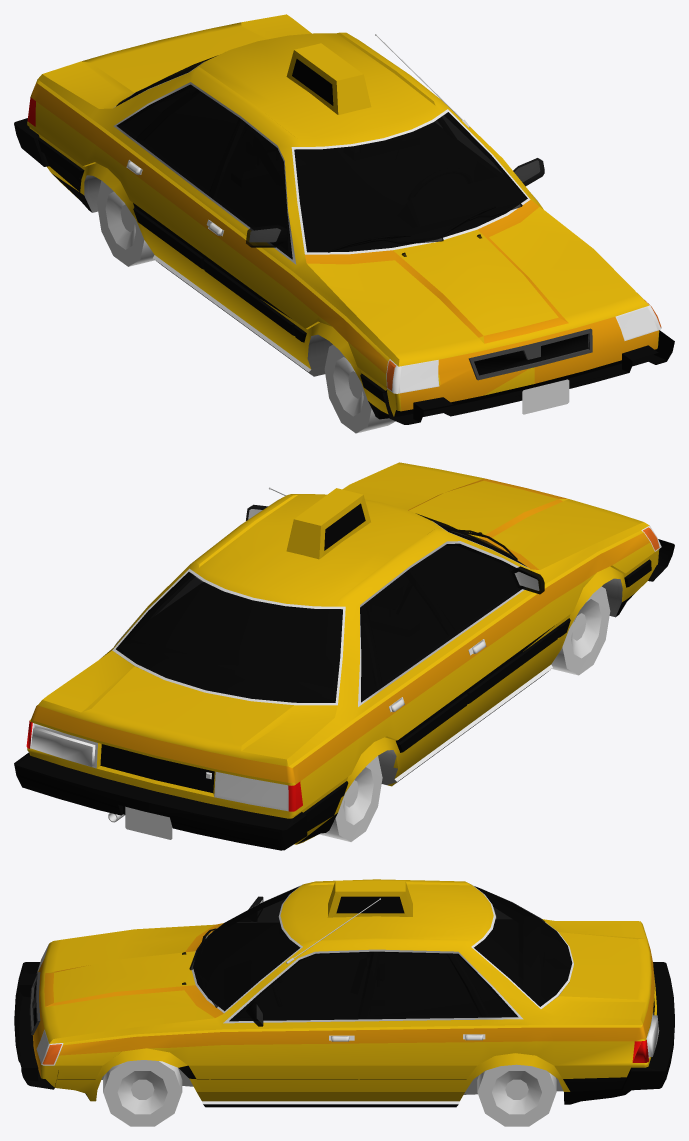
The model's file is taxi_sedan_2.fbx.
3 renders of one model, top to bottom at view 1: azimuth 30°, elevation 25°; view 2: azimuth 150°, elevation 25°; view 3: azimuth 270°, elevation 25°, orthographic. The views are drawn at different scales.
Visible parts, largest first — view 1: Body, Interior, Windshield, Windows, Bumpers, Window_Molding___Black, Cube, Window_Molding___Silver, Grill, Object015, Object016, License_Plate___Front (+2 smaller); view 2: Body, Interior, Rear_Window, Bumpers, Windows, Cube, Window_Molding___Silver, Window_Molding___Black, Object015, Object016, Body_Molding, License_Plate___Rear (+3 smaller); view 3: Body, Interior, Windows, Windshield, Rear_Window, Bumpers, Object005, Object017, Window_Molding___Black, Cube, Window_Molding___Silver, Body_Molding (+3 smaller).
Boxes of the visible parts, x1=… form: Body: x1=27, y1=14, x2=661, y2=419; Interior: x1=117, y1=85, x2=527, y2=258; Windshield: x1=294, y1=112, x2=527, y2=252; Windows: x1=122, y1=87, x2=500, y2=251; Bumpers: x1=14, y1=118, x2=674, y2=424; Window_Molding___Black: x1=116, y1=84, x2=544, y2=259; Cube: x1=286, y1=43, x2=371, y2=114; Window_Molding___Silver: x1=113, y1=62, x2=539, y2=264; Grill: x1=468, y1=328, x2=592, y2=380; Object015: x1=324, y1=345, x2=395, y2=433; Object016: x1=97, y1=180, x2=154, y2=266; License_Plate___Front: x1=522, y1=379, x2=569, y2=414; Body: x1=26, y1=462, x2=661, y2=844; Interior: x1=116, y1=530, x2=524, y2=702; Rear_Window: x1=120, y1=574, x2=339, y2=700; Bumpers: x1=14, y1=539, x2=674, y2=850; Windows: x1=161, y1=545, x2=517, y2=696; Cube: x1=286, y1=488, x2=370, y2=559; Window_Molding___Silver: x1=112, y1=521, x2=529, y2=706; Window_Molding___Black: x1=246, y1=504, x2=544, y2=702; Object015: x1=551, y1=586, x2=610, y2=675; Object016: x1=319, y1=756, x2=382, y2=841; Body_Molding: x1=116, y1=532, x2=482, y2=702; License_Plate___Rear: x1=125, y1=806, x2=172, y2=839; Body: x1=32, y1=879, x2=659, y2=1107; Interior: x1=194, y1=887, x2=570, y2=1020; Windows: x1=237, y1=900, x2=512, y2=1017; Windshield: x1=193, y1=886, x2=300, y2=1011; Rear_Window: x1=476, y1=890, x2=570, y2=1004; Bumpers: x1=14, y1=962, x2=674, y2=1090; Object005: x1=103, y1=1060, x2=182, y2=1126; Object017: x1=477, y1=1064, x2=556, y2=1126; Window_Molding___Black: x1=229, y1=896, x2=518, y2=1026; Cube: x1=328, y1=880, x2=412, y2=917; Window_Molding___Silver: x1=191, y1=884, x2=573, y2=1023; Body_Molding: x1=182, y1=886, x2=545, y2=1006.
Bounding box in the file's own units: 115 × 91.05 × 269.
